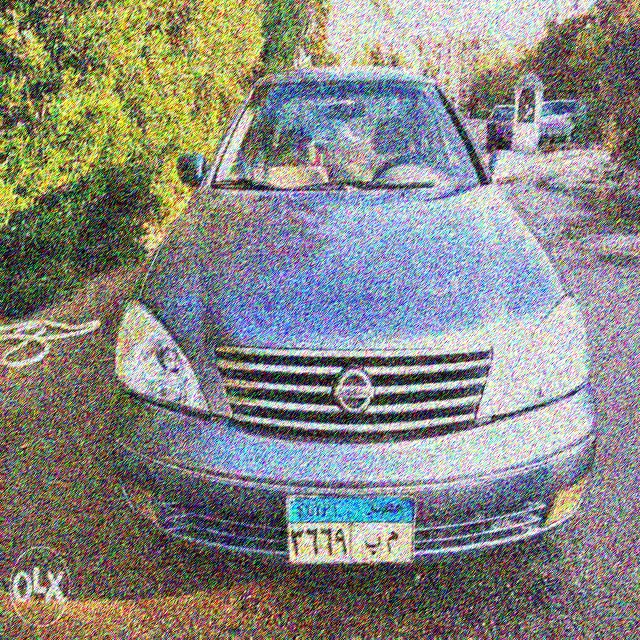License Plate: (283, 494, 417, 568)
